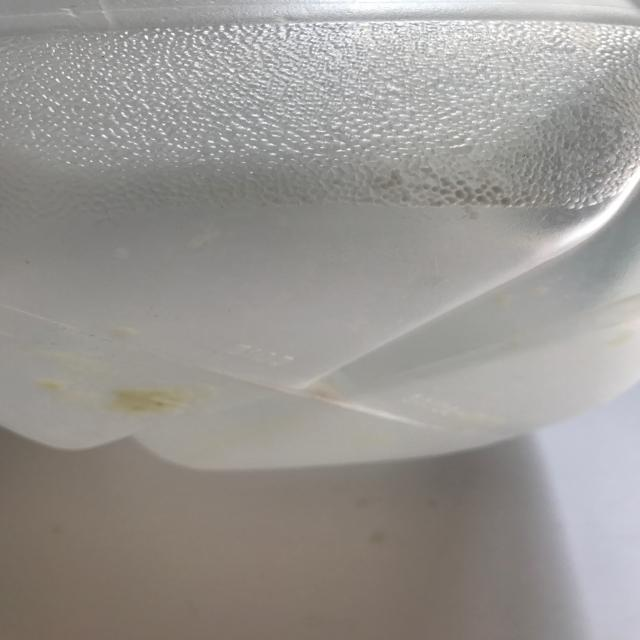plastic: (0, 5, 640, 470)
